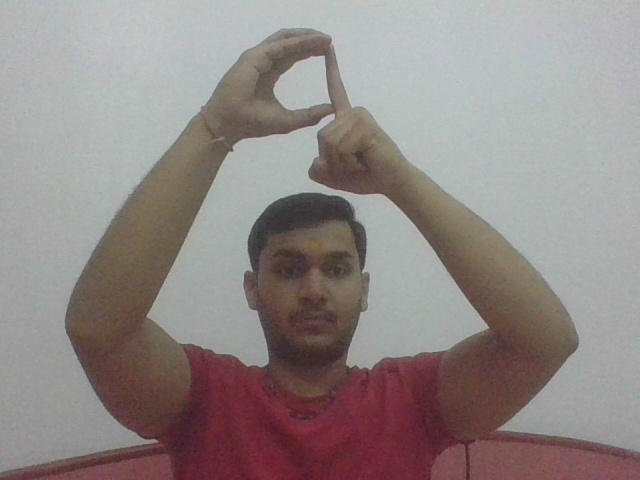D: (217, 26, 390, 193)
